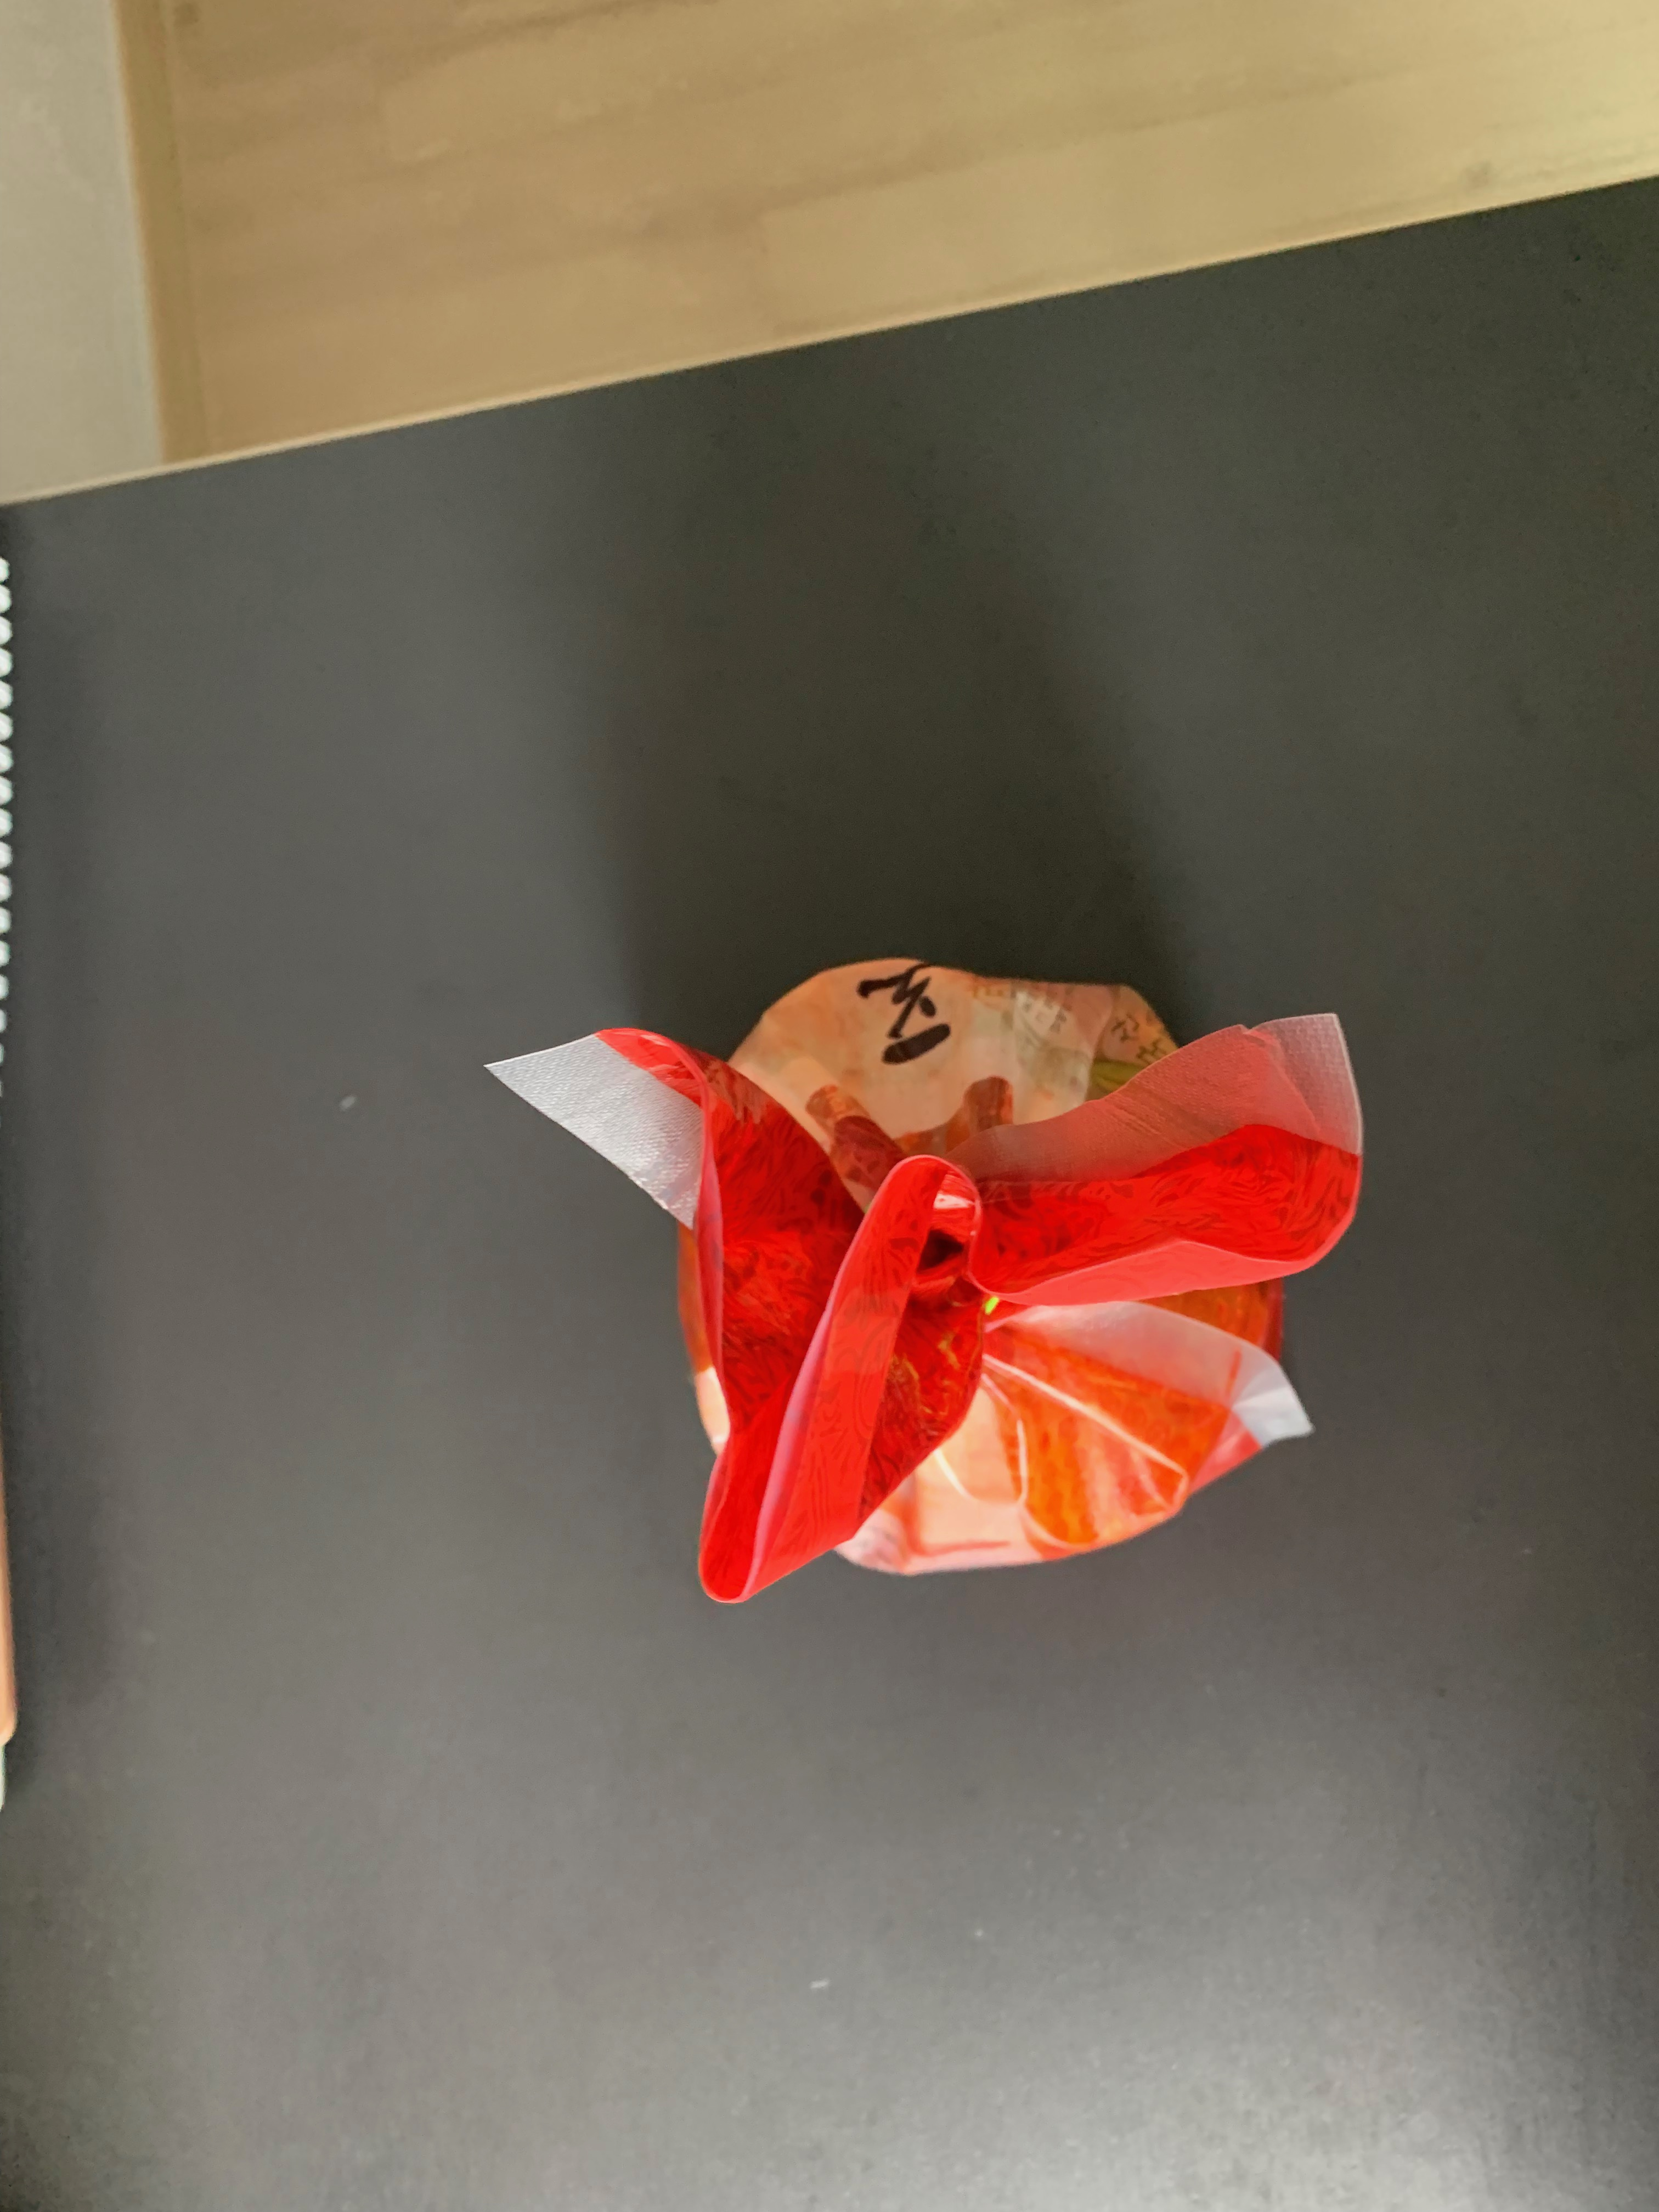kimchi: (596, 953, 1364, 1602)
